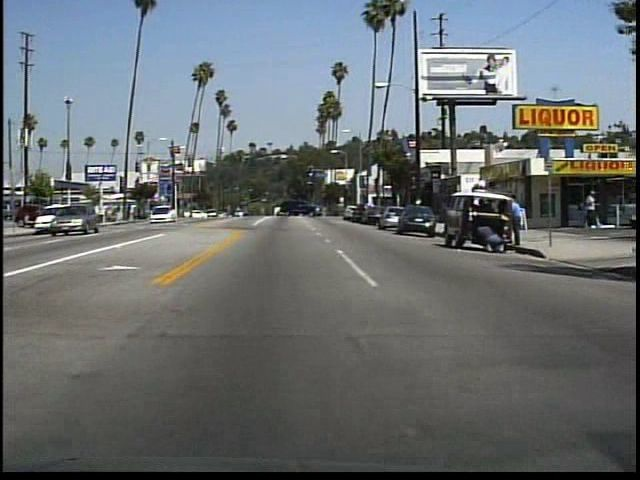person: (475, 221, 505, 257), (507, 195, 527, 247), (583, 187, 600, 233)
